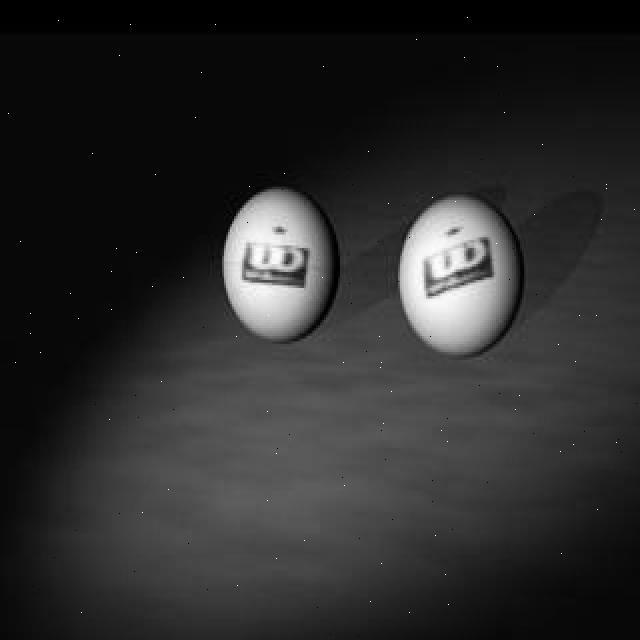ping-pong-ball: (400, 192, 528, 362), (224, 185, 340, 344)
